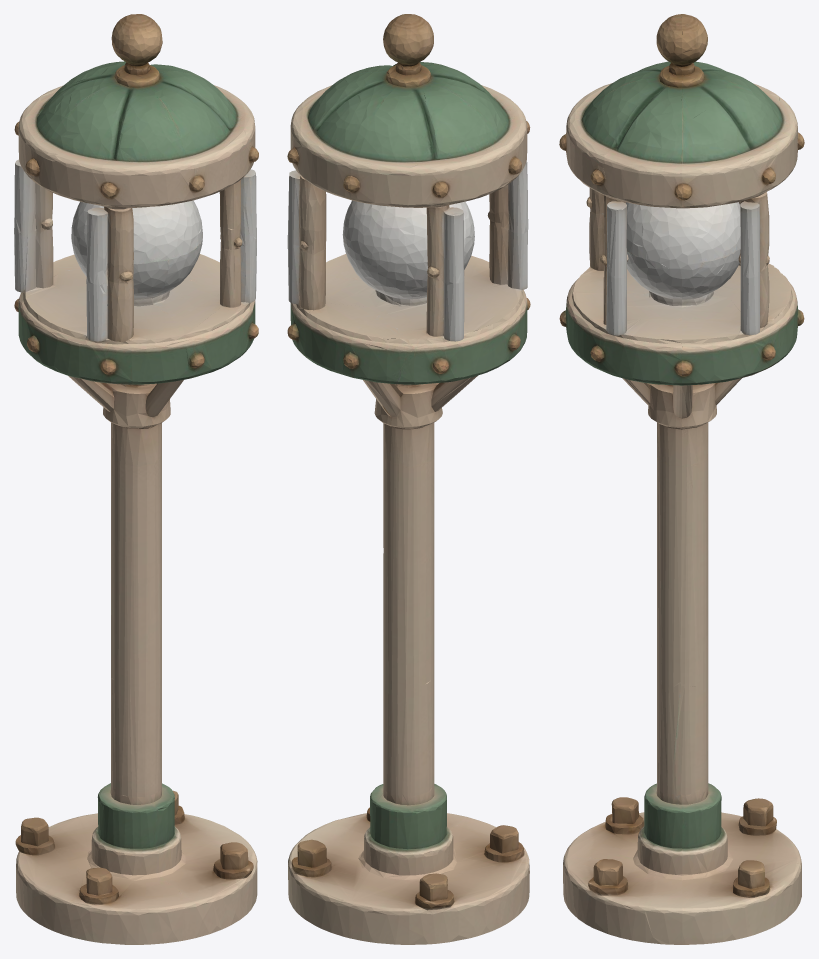
File: 10-lamp.glb
3 renders of one model, left to right at view 1: azimuth 30°, elevation 25°; view 2: azimuth 150°, elevation 25°; view 3: azimuth 270°, elevation 25°, orthographic.
Size of the model in its own units: 0.262 by 0.9934 by 0.2516.
Materials: 1 (1 with a texture image).
